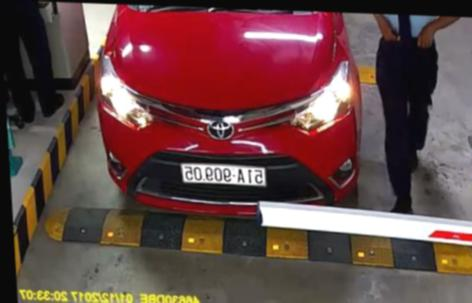License_Plate: (177, 157, 266, 194)
